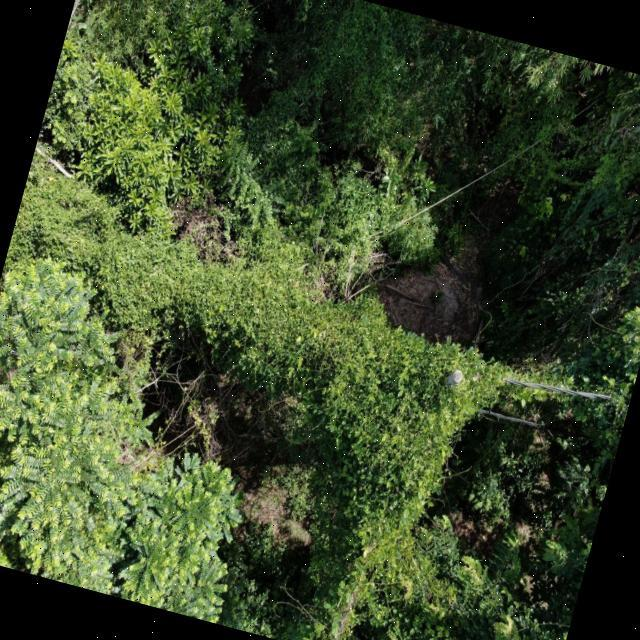critical vegetation: (26, 164, 582, 455)
